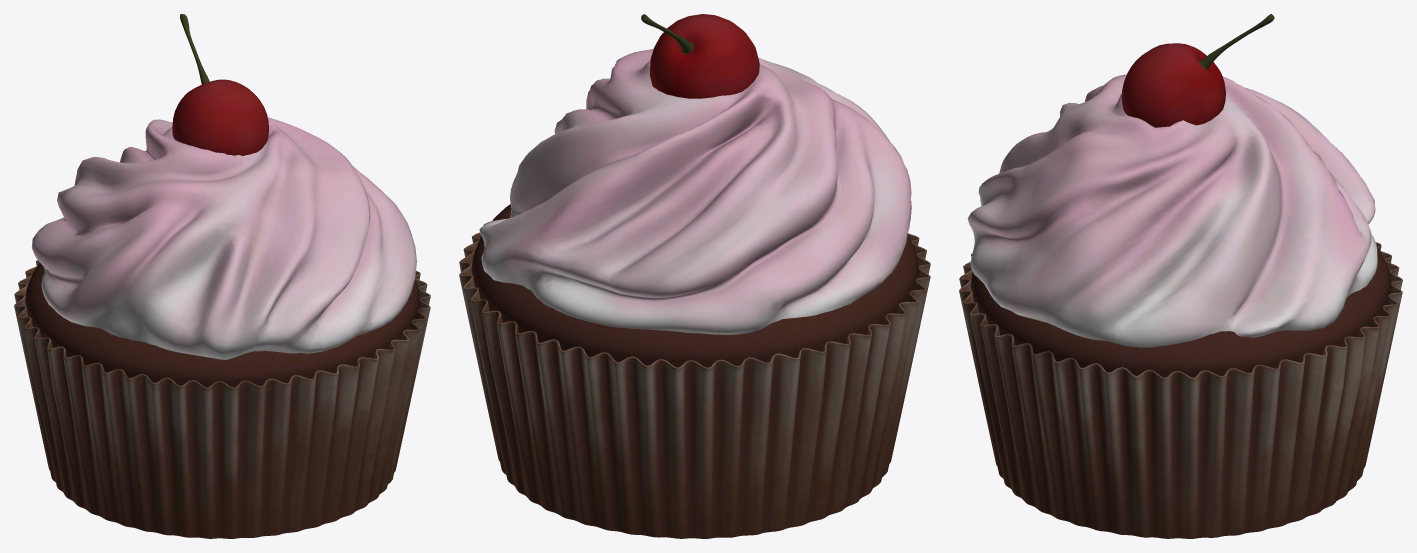
Rendered from obstacle1.fbx.
The picture shows the model from 3 angles, left to right: view 1: azimuth 30°, elevation 25°; view 2: azimuth 150°, elevation 25°; view 3: azimuth 270°, elevation 25°; orthographic projection. The views are drawn at different scales.
Visible parts, largest first — view 1: node_id82; view 2: node_id82; view 3: node_id82.
Part boxes in pixels (x1,y1,x2,y2): node_id82: (14,14,430,538); node_id82: (459,14,930,538); node_id82: (959,14,1402,538).
Bounding box in the file's own units: 0.459 × 0.512 × 0.459.
1 material, 1 textured.
